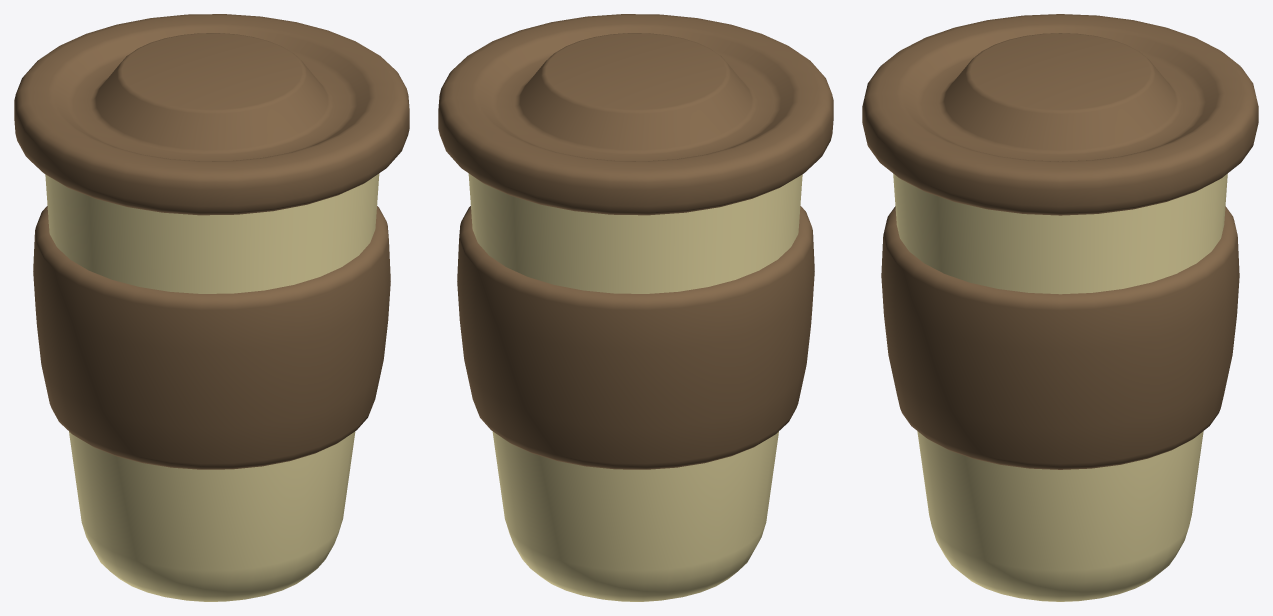
File: Coffee.glb
3 views of the same model, side by side, from view 1: azimuth 30°, elevation 25°; view 2: azimuth 150°, elevation 25°; view 3: azimuth 270°, elevation 25° (orthographic).
Visible parts, largest first — view 1: Cylinder; view 2: Cylinder; view 3: Cylinder.
Part boxes in pixels (left/top/right/bottom): Cylinder: left=14, top=14, right=409, bottom=601; Cylinder: left=438, top=14, right=833, bottom=601; Cylinder: left=862, top=14, right=1258, bottom=601.
Bounding box in the file's own units: 2.33 × 3.19 × 2.33.
